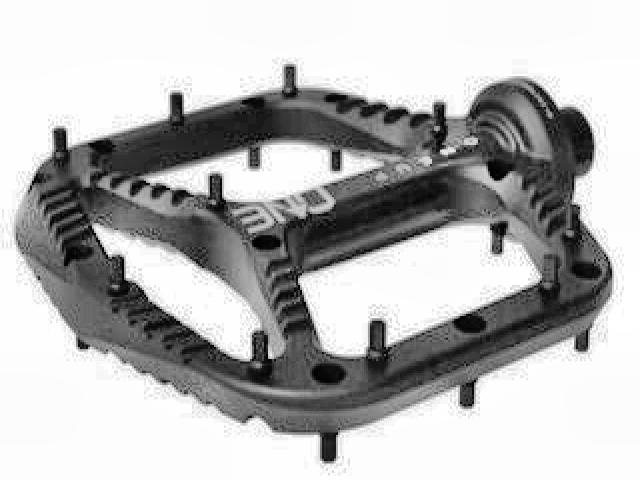pedal: (13, 57, 617, 467)
